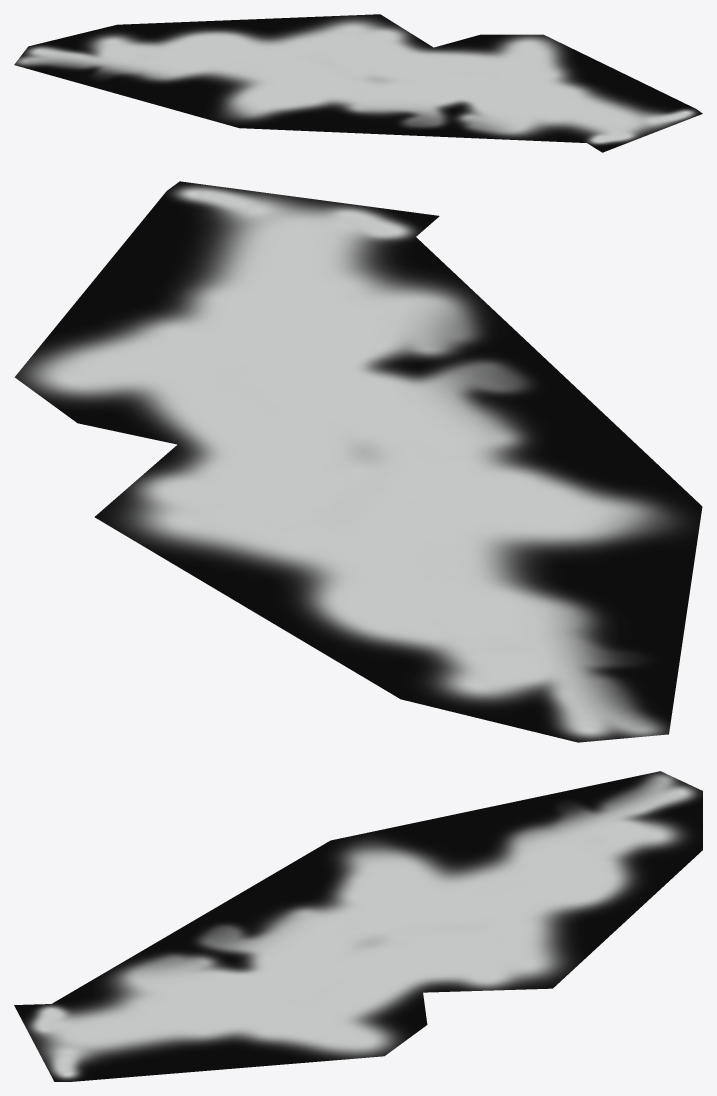
Rendered from scene_eff_1030_04.FBX.
The picture shows the model from 3 angles, top to bottom: view 1: azimuth 30°, elevation 25°; view 2: azimuth 150°, elevation 25°; view 3: azimuth 270°, elevation 25°; orthographic projection. The views are drawn at different scales.
Visible parts, largest first — view 1: scene_eff_1030_04; view 2: scene_eff_1030_04; view 3: scene_eff_1030_04.
Part boxes in pixels (<box>): scene_eff_1030_04: <box>14,14,702,152</box>; scene_eff_1030_04: <box>14,181,702,742</box>; scene_eff_1030_04: <box>14,771,702,1081</box>.
Size of the model in its own units: 317 by 1.82e-14 by 297.
